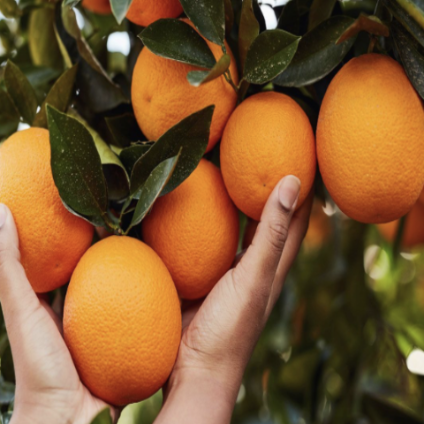orange: (51, 231, 190, 401), (298, 42, 423, 226), (215, 74, 322, 227)
